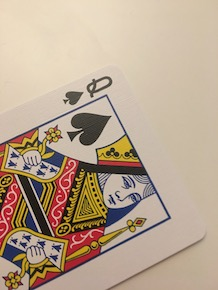QueenOfSpades: (1, 52, 208, 290)
